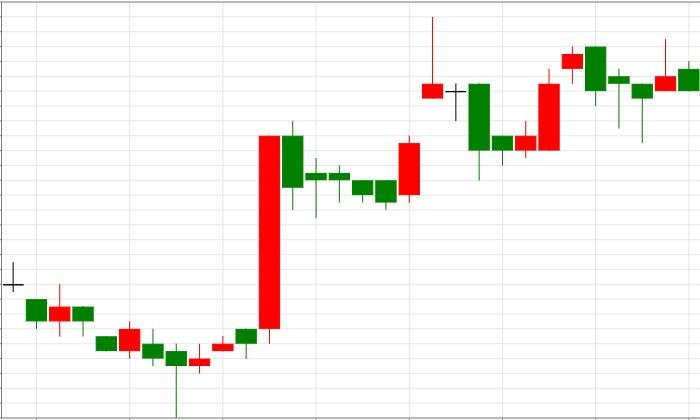bearish_engulfing_fall: (468, 46, 606, 181)
